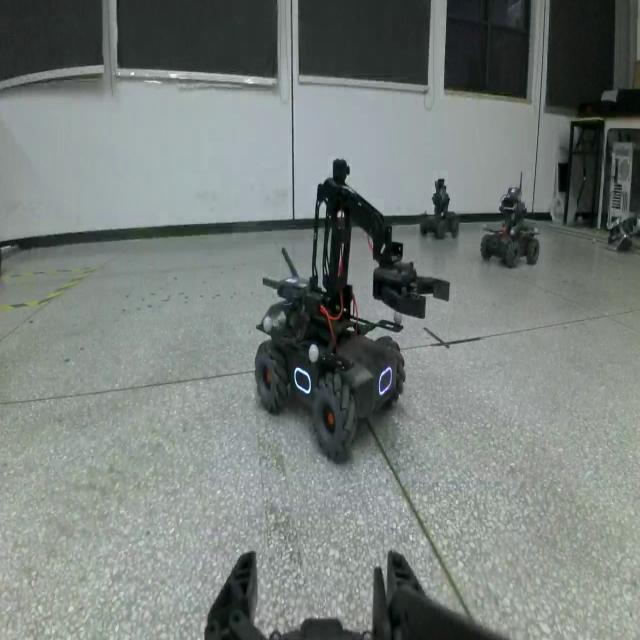ep: (246, 160, 453, 465)
s1: (478, 171, 541, 268), (416, 170, 461, 239)
